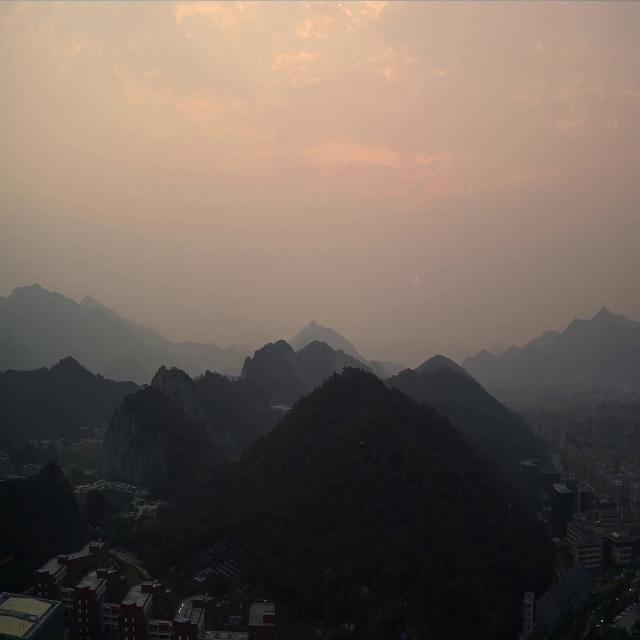UAV: (355, 440, 368, 449)
